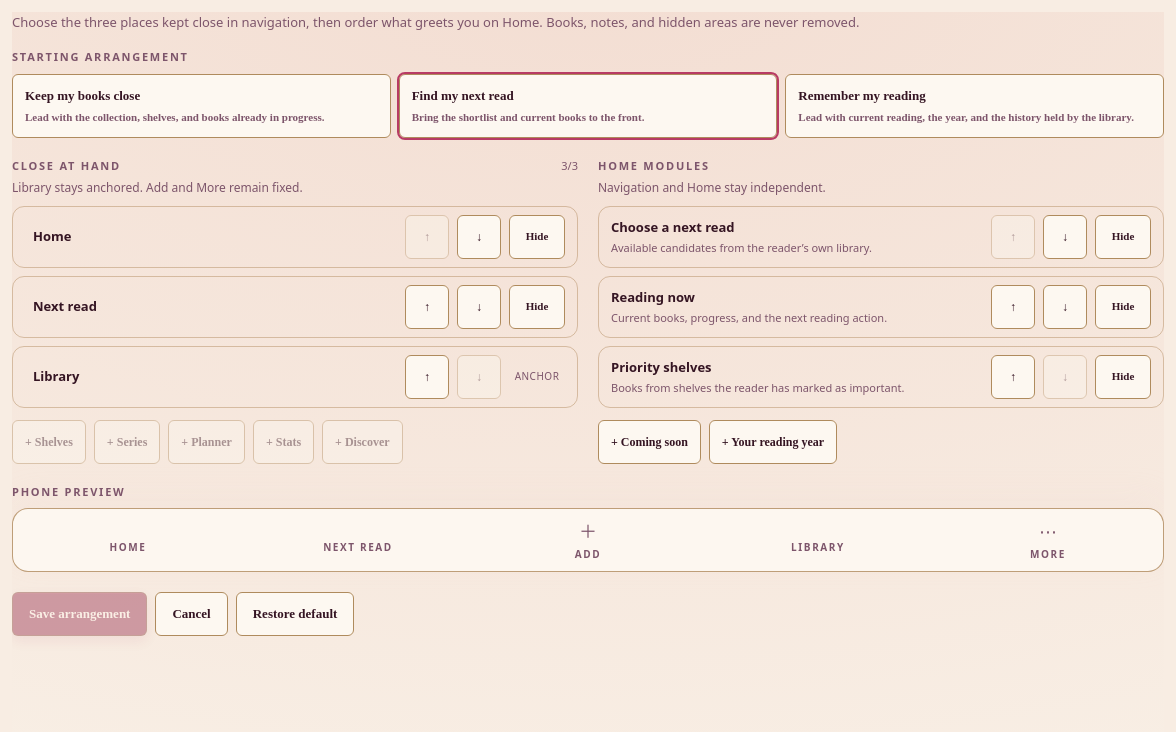
Test case: ArrangementEditor › requires a complete trio after hiding a destination
Click the button with aria-label "Hide Home from close at hand". click: (537, 237)
box: [509, 215, 565, 259]
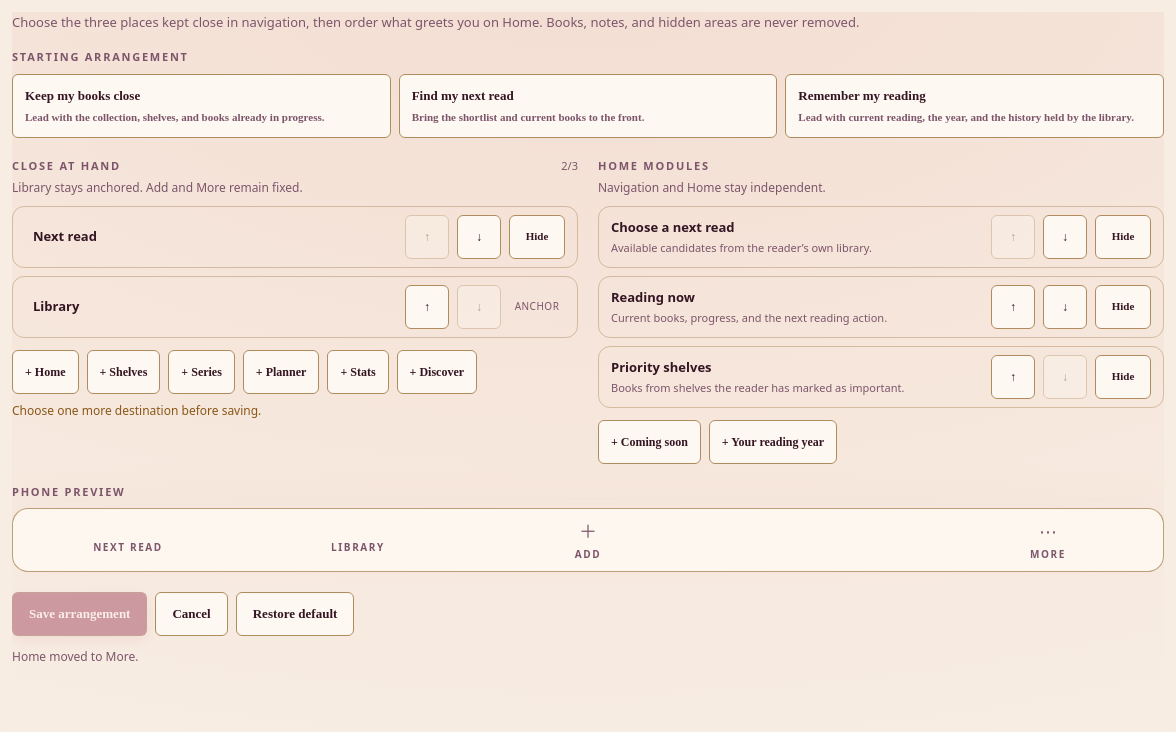
Expected: the button "Save arrangement" is disabled, [12, 592, 148, 636]
Result: the text "Choose one more destination before saving." is shown at [12, 402, 261, 419]
Click the button "+ Discover". click: (437, 372)
box: [397, 350, 477, 394]
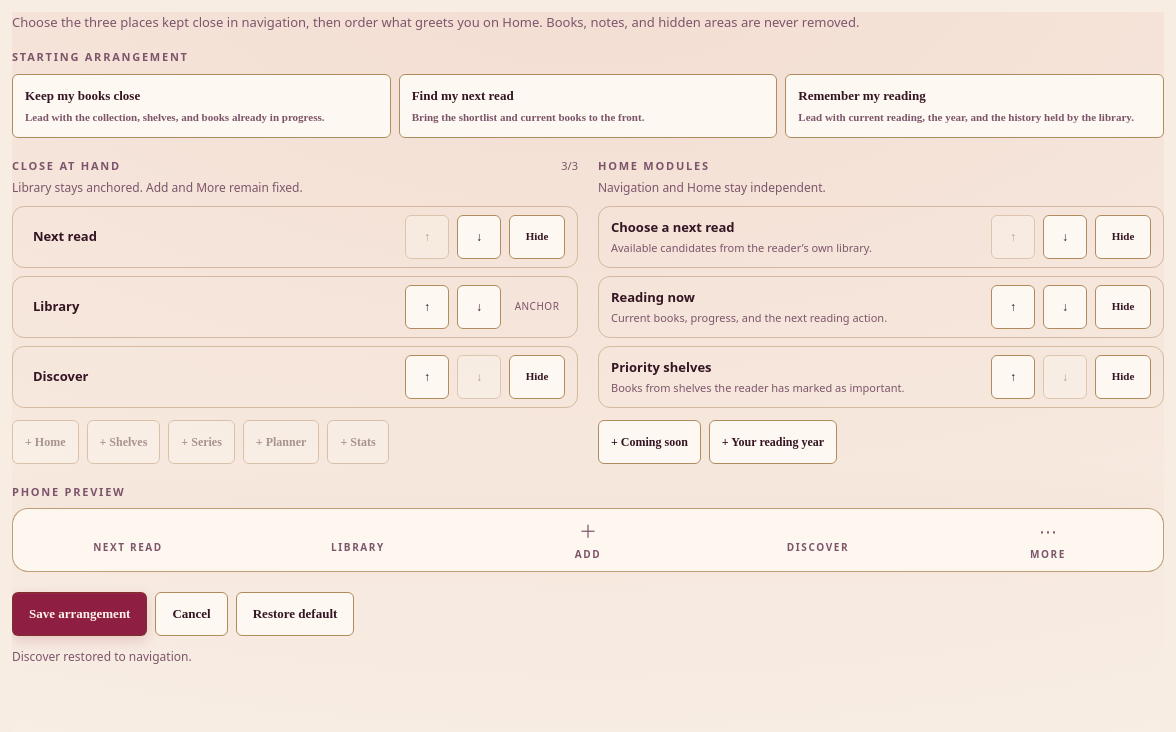
Result: the button "Save arrangement" is enabled at [12, 592, 148, 636]
